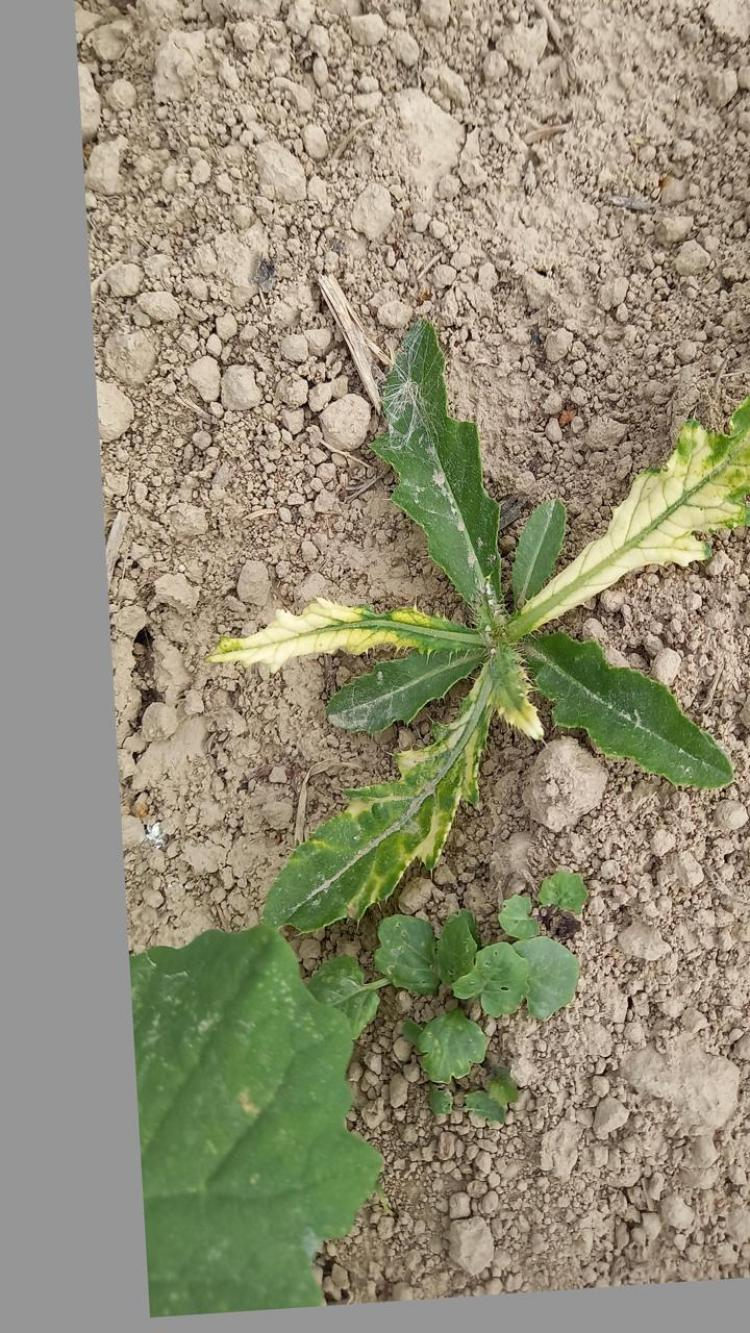bodyak: (208, 315, 750, 933)
